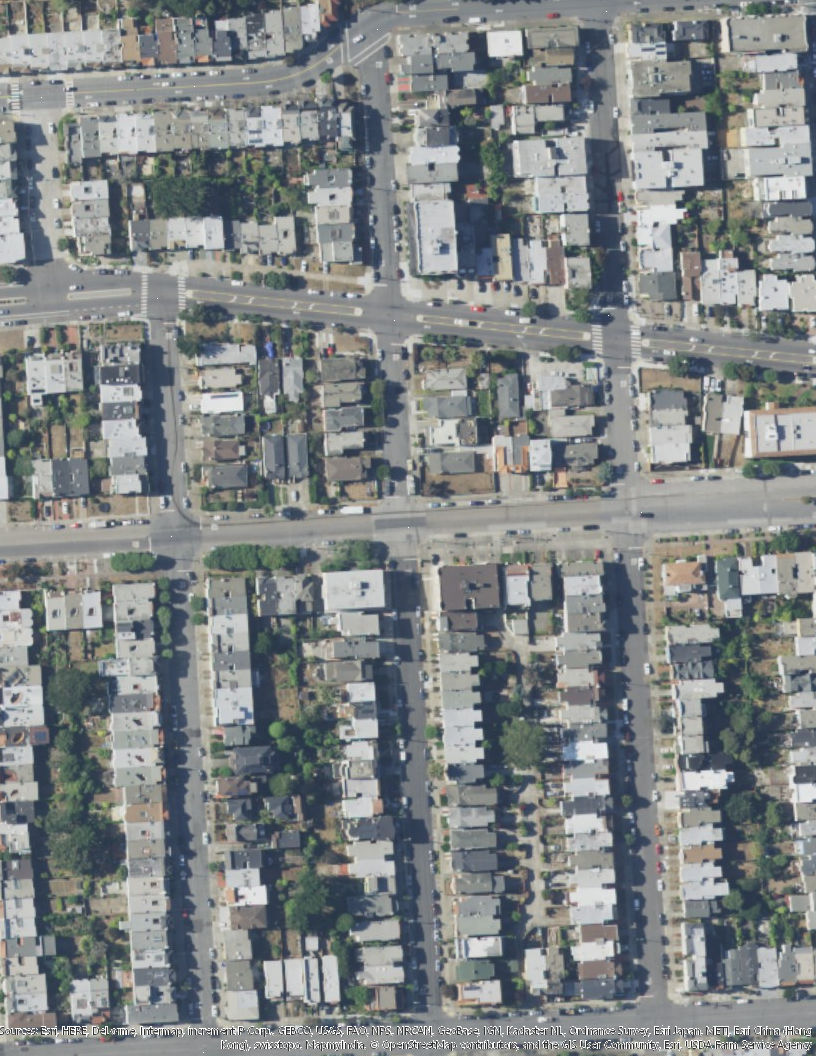zebracross: (629, 321, 644, 361), (139, 271, 150, 316), (592, 322, 605, 356), (176, 274, 187, 310), (8, 82, 22, 110), (63, 79, 76, 108)
